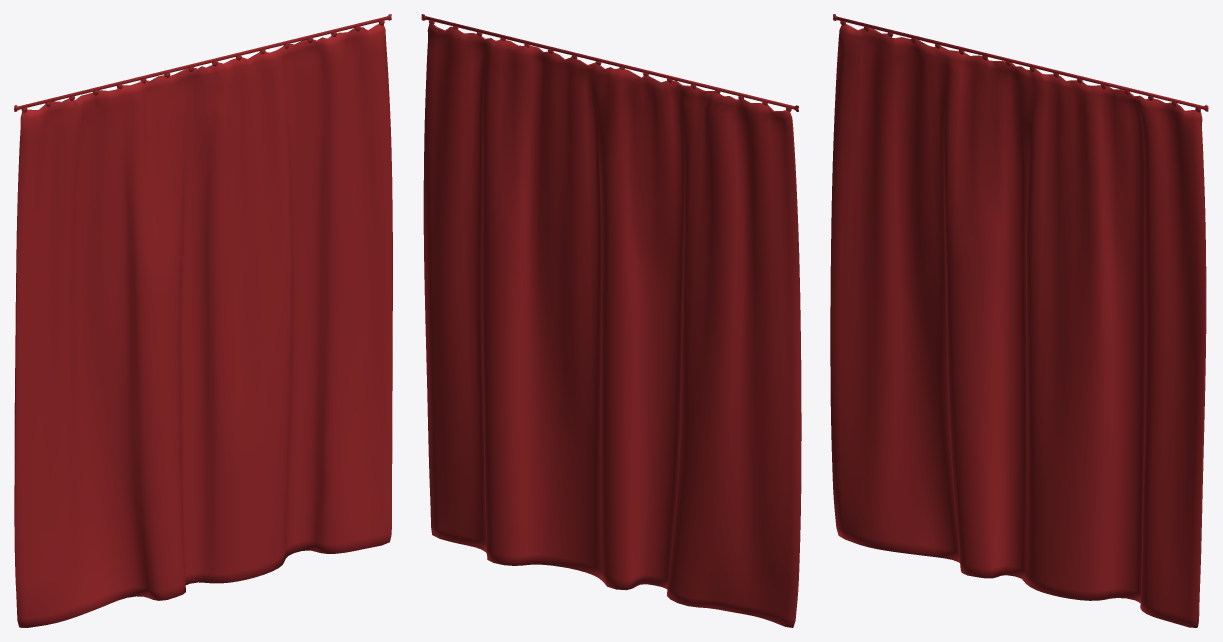
Rendered from Cortina_Média.fbx.
The picture shows the model from 3 angles, left to right: view 1: azimuth 30°, elevation 25°; view 2: azimuth 150°, elevation 25°; view 3: azimuth 330°, elevation 25°; orthographic projection.
Visible parts, largest first — view 1: Curtain_Yellow.001; view 2: Curtain_Yellow.001; view 3: Curtain_Yellow.001.
Part boxes in pixels (x1,y1,x2,y2): Curtain_Yellow.001: [14, 14, 392, 627]; Curtain_Yellow.001: [421, 14, 801, 627]; Curtain_Yellow.001: [830, 14, 1208, 627].
Size of the model in its own units: 294 by 390 by 23.89.
